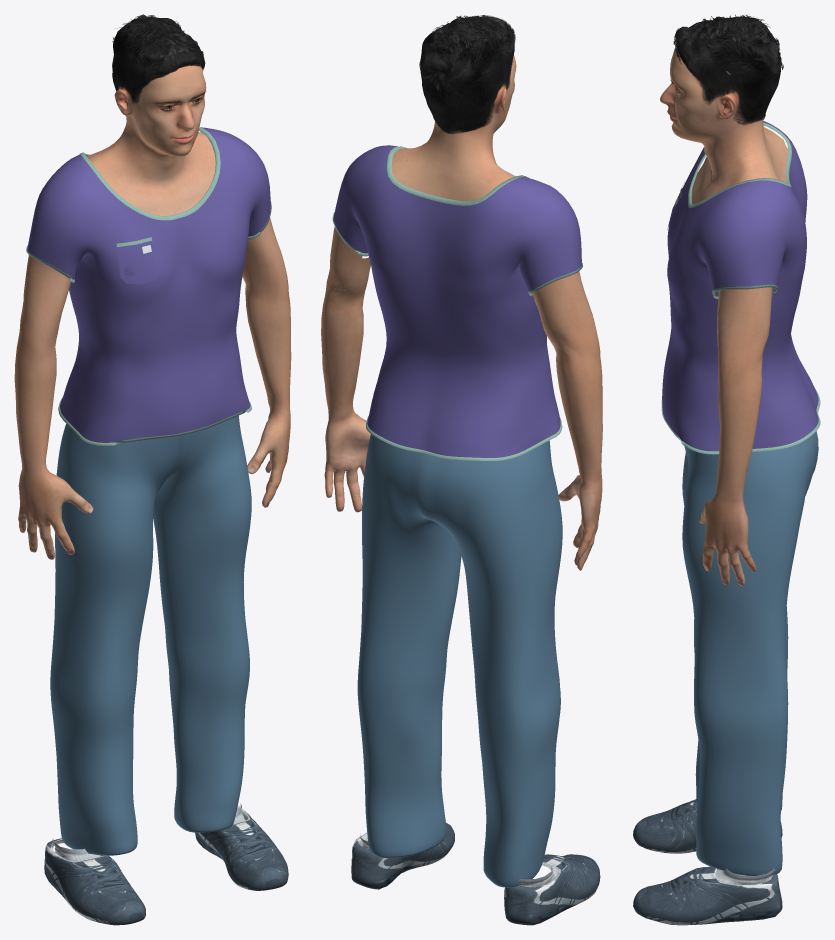
Rendered from male_patient.glb.
The picture shows the model from 3 angles, left to right: view 1: azimuth 30°, elevation 25°; view 2: azimuth 150°, elevation 25°; view 3: azimuth 270°, elevation 25°; orthographic projection.
Visible parts, largest first — view 1: Clinical_Trousers, Clinical_Top, Visible_Skin, Clinical_Shoes, Hair, Shirt_Collar_Cuffs_Hem, Shirt_Chest_Pocket; view 2: Clinical_Trousers, Clinical_Top, Visible_Skin, Hair, Clinical_Shoes, Shirt_Collar_Cuffs_Hem; view 3: Clinical_Trousers, Clinical_Top, Visible_Skin, Clinical_Shoes, Hair, Shirt_Collar_Cuffs_Hem.
Boxes of the visible parts, x1,y1,x2,y2 form: Clinical_Trousers: (50,415,251,855); Clinical_Top: (27,127,270,442); Visible_Skin: (14,58,291,559); Clinical_Shoes: (44,803,288,925); Hair: (112,14,205,115); Shirt_Collar_Cuffs_Hem: (26,127,271,445); Shirt_Chest_Pocket: (116,237,158,284); Clinical_Trousers: (357,434,562,887); Clinical_Top: (333,145,581,457); Visible_Skin: (321,55,602,570); Hair: (419,15,515,133); Clinical_Shoes: (351,823,600,925); Shirt_Collar_Cuffs_Hem: (332,146,582,460); Clinical_Trousers: (682,431,818,875); Clinical_Top: (662,121,818,451); Visible_Skin: (660,46,788,585); Clinical_Shoes: (633,799,782,925); Hair: (673,14,783,124); Shirt_Collar_Cuffs_Hem: (661,122,820,454).
Size of the model in its own units: 0.5908 by 1.78 by 0.3523.
11 materials, 6 textured.
